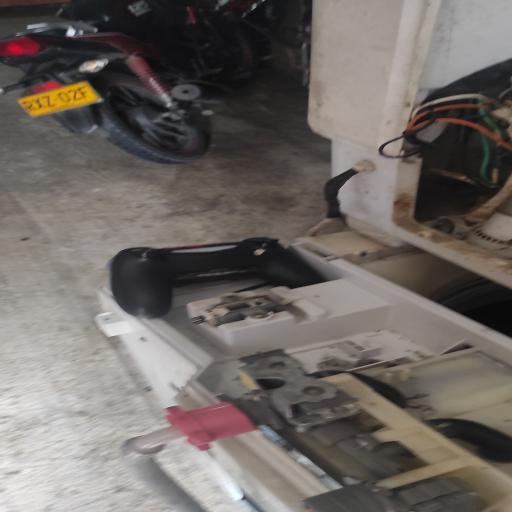ControlPlay4: (110, 237, 325, 319)
